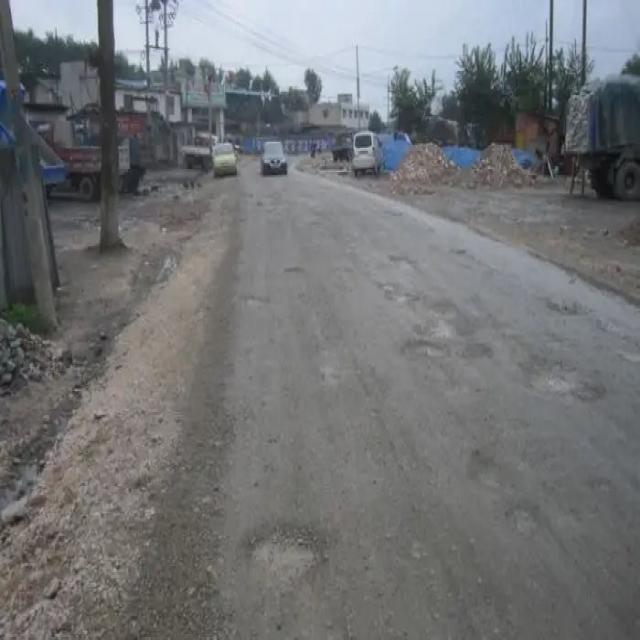Pothole: (246, 528, 325, 584), (528, 358, 602, 402), (472, 449, 509, 494), (398, 335, 452, 362), (508, 506, 540, 540), (381, 286, 414, 306)
